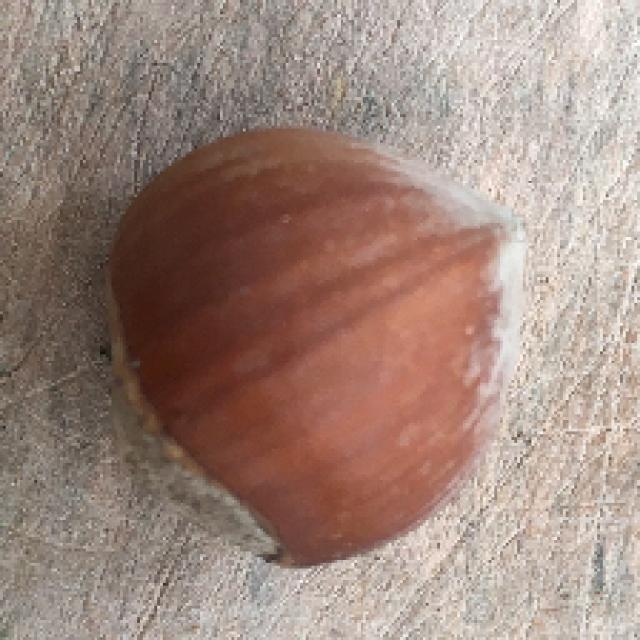DamagedHazelnut: (102, 130, 532, 566)
